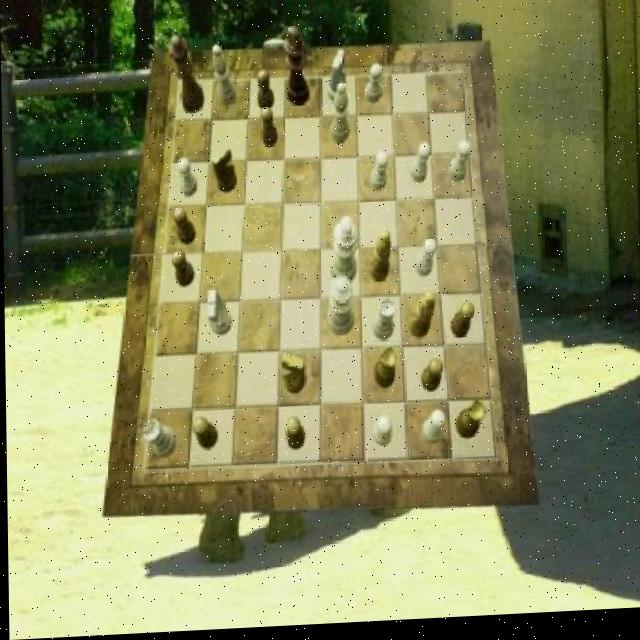bishop: (408, 296, 435, 344), (368, 233, 391, 287)
black-bishop: (284, 29, 309, 110)
black-king: (211, 148, 236, 196), (280, 356, 304, 398)
black-knight: (172, 209, 195, 248), (193, 419, 218, 454), (171, 251, 194, 289), (450, 307, 474, 343), (420, 361, 443, 396), (261, 109, 279, 149), (285, 418, 305, 453), (258, 73, 275, 114)
black-pawn: (168, 36, 205, 118)
black-queen: (454, 405, 484, 445), (372, 350, 395, 393)
black-rook: (211, 46, 236, 108), (329, 86, 349, 147)
white-bishop: (329, 220, 357, 290)
white-king: (206, 291, 231, 338), (327, 53, 347, 108)
white-knight: (448, 146, 471, 188), (414, 242, 437, 282), (409, 149, 431, 188), (421, 413, 445, 448), (177, 160, 197, 199), (370, 155, 388, 196), (364, 68, 382, 107), (371, 420, 391, 452)
white-pawn: (327, 280, 355, 341)
white-queen: (142, 419, 175, 460), (371, 301, 395, 344)
